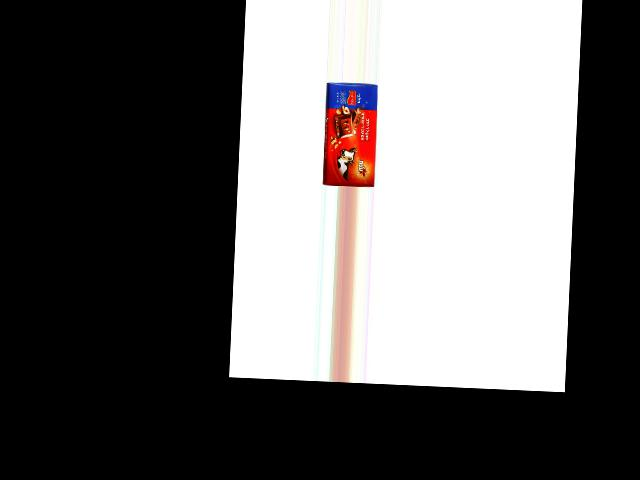chocolate: (317, 83, 377, 187)
